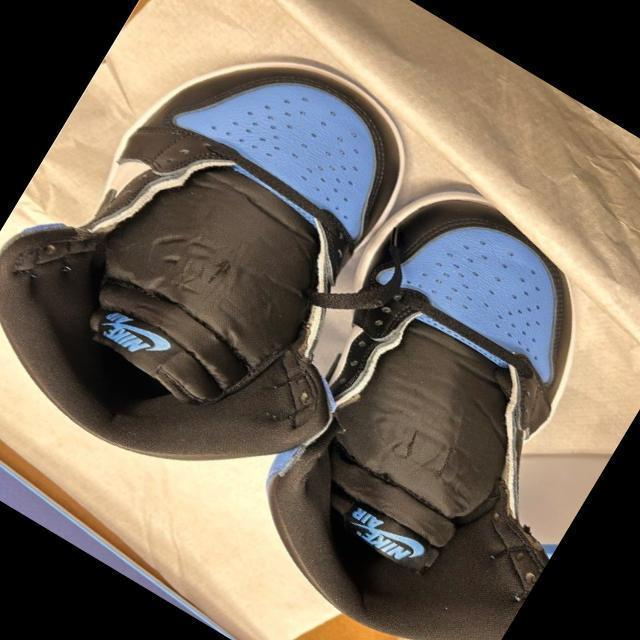nike original jordan 1: (0, 0, 491, 538), (197, 160, 640, 640)
